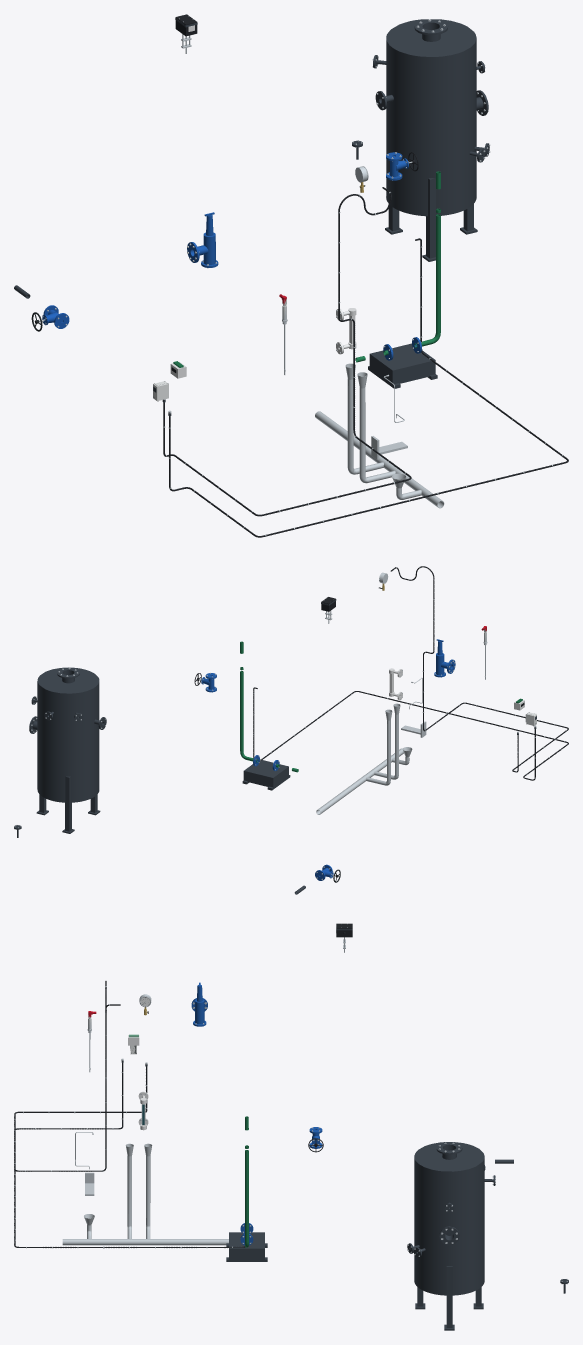
File: s4000-2-DCXB1uYy.glb
3 views of the same model, one above another, from view 1: azimuth 30°, elevation 25°; view 2: azimuth 150°, elevation 25°; view 3: azimuth 270°, elevation 25° (orthographic). The views are drawn at different scales.
Visible parts, largest first — view 1: separator_bdv60_5 / dark, local_open_drains / steel, pump_branch_1 / dark, wiring_pump_1 / black, wiring_pressure_switch_3 / black, pump_branch_1 / green, safety_1 / blue; view 2: separator_bdv60_5 / dark, local_open_drains / steel, pump_branch_1 / dark, wiring_pump_1 / black, wiring_pressure_switch_3 / black, pump_branch_1 / green, safety_1 / blue; view 3: separator_bdv60_5 / dark, local_open_drains / steel, wiring_pressure_switch_3 / black, pump_branch_1 / dark, wiring_pump_1 / black.
Part boxes in pixels (x1,y1,x2,y2): separator_bdv60_5 / dark: (373,19,489,261); local_open_drains / steel: (315,363,444,508); pump_branch_1 / dark: (368,343,437,388); wiring_pump_1 / black: (169,238,568,537); wiring_pressure_switch_3 / black: (163,187,411,516); pump_branch_1 / green: (355,171,440,362); safety_1 / blue: (187,212,218,267); separator_bdv60_5 / dark: (29,667,106,833); local_open_drains / steel: (316,703,412,814); pump_branch_1 / dark: (242,759,290,790); wiring_pump_1 / black: (253,687,568,780); wiring_pressure_switch_3 / black: (390,566,568,772); pump_branch_1 / green: (240,641,298,772); safety_1 / blue: (434,639,455,677); separator_bdv60_5 / dark: (407,1142,495,1330); local_open_drains / steel: (62,1143,228,1245); wiring_pressure_switch_3 / black: (14,981,147,1171); pump_branch_1 / dark: (226,1232,267,1261); wiring_pump_1 / black: (14,1063,245,1247).
Bounding box in the file's own units: 5.19 × 3.5 × 6.03.
